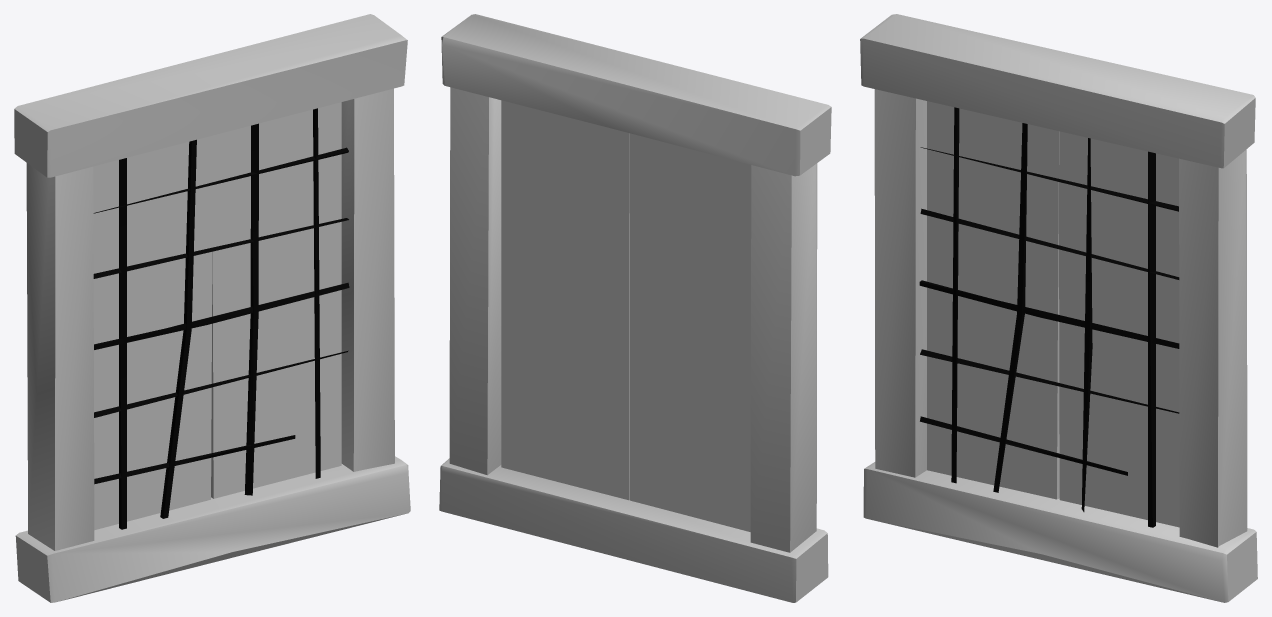
Rendered from SM_Window_03_LOD_02.FBX.
3 views of the same model, side by side, from view 1: azimuth 30°, elevation 25°; view 2: azimuth 150°, elevation 25°; view 3: azimuth 330°, elevation 25° (orthographic).
Parts seen in each view (by area): view 1: SM_Window_03, SM_Window_03_Shutter_Right, SM_Window_03_Shutter_Left; view 2: SM_Window_03, SM_Window_03_Shutter_Right, SM_Window_03_Shutter_Left; view 3: SM_Window_03, SM_Window_03_Shutter_Left, SM_Window_03_Shutter_Right.
Part boxes in pixels (box(x1,y1,x2,y2)): SM_Window_03: box(14, 14, 410, 602); SM_Window_03_Shutter_Right: box(211, 102, 341, 498); SM_Window_03_Shutter_Left: box(93, 135, 212, 530); SM_Window_03: box(439, 14, 831, 602); SM_Window_03_Shutter_Right: box(501, 100, 629, 500); SM_Window_03_Shutter_Left: box(629, 133, 751, 531); SM_Window_03: box(860, 14, 1257, 602); SM_Window_03_Shutter_Left: box(927, 101, 1059, 499); SM_Window_03_Shutter_Right: box(1059, 131, 1179, 527).
Bounding box in the file's own units: 1.06 × 1.33 × 0.1884.
